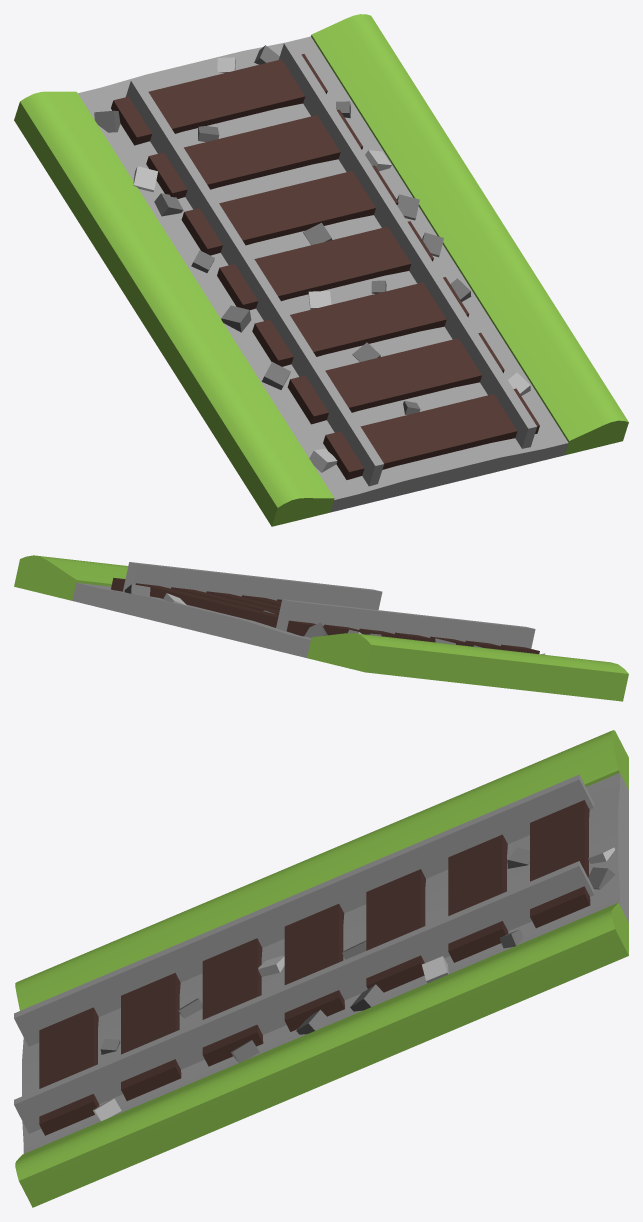
The model's file is railway_track.gltf.
The picture shows the model from 3 angles, top to bottom: view 1: azimuth 30°, elevation 25°; view 2: azimuth 150°, elevation 25°; view 3: azimuth 270°, elevation 25°; orthographic projection. The views are drawn at different scales.
Parts seen in each view (by area): view 1: Cube.753; view 2: Cube.753; view 3: Cube.753.
Part boxes in pixels (x1,y1,x2,y2): Cube.753: [14, 14, 628, 526]; Cube.753: [14, 555, 628, 701]; Cube.753: [14, 730, 628, 1207].
Size of the model in its own units: 1.95 by 1.32 by 2.55.
1 material, 1 textured.
